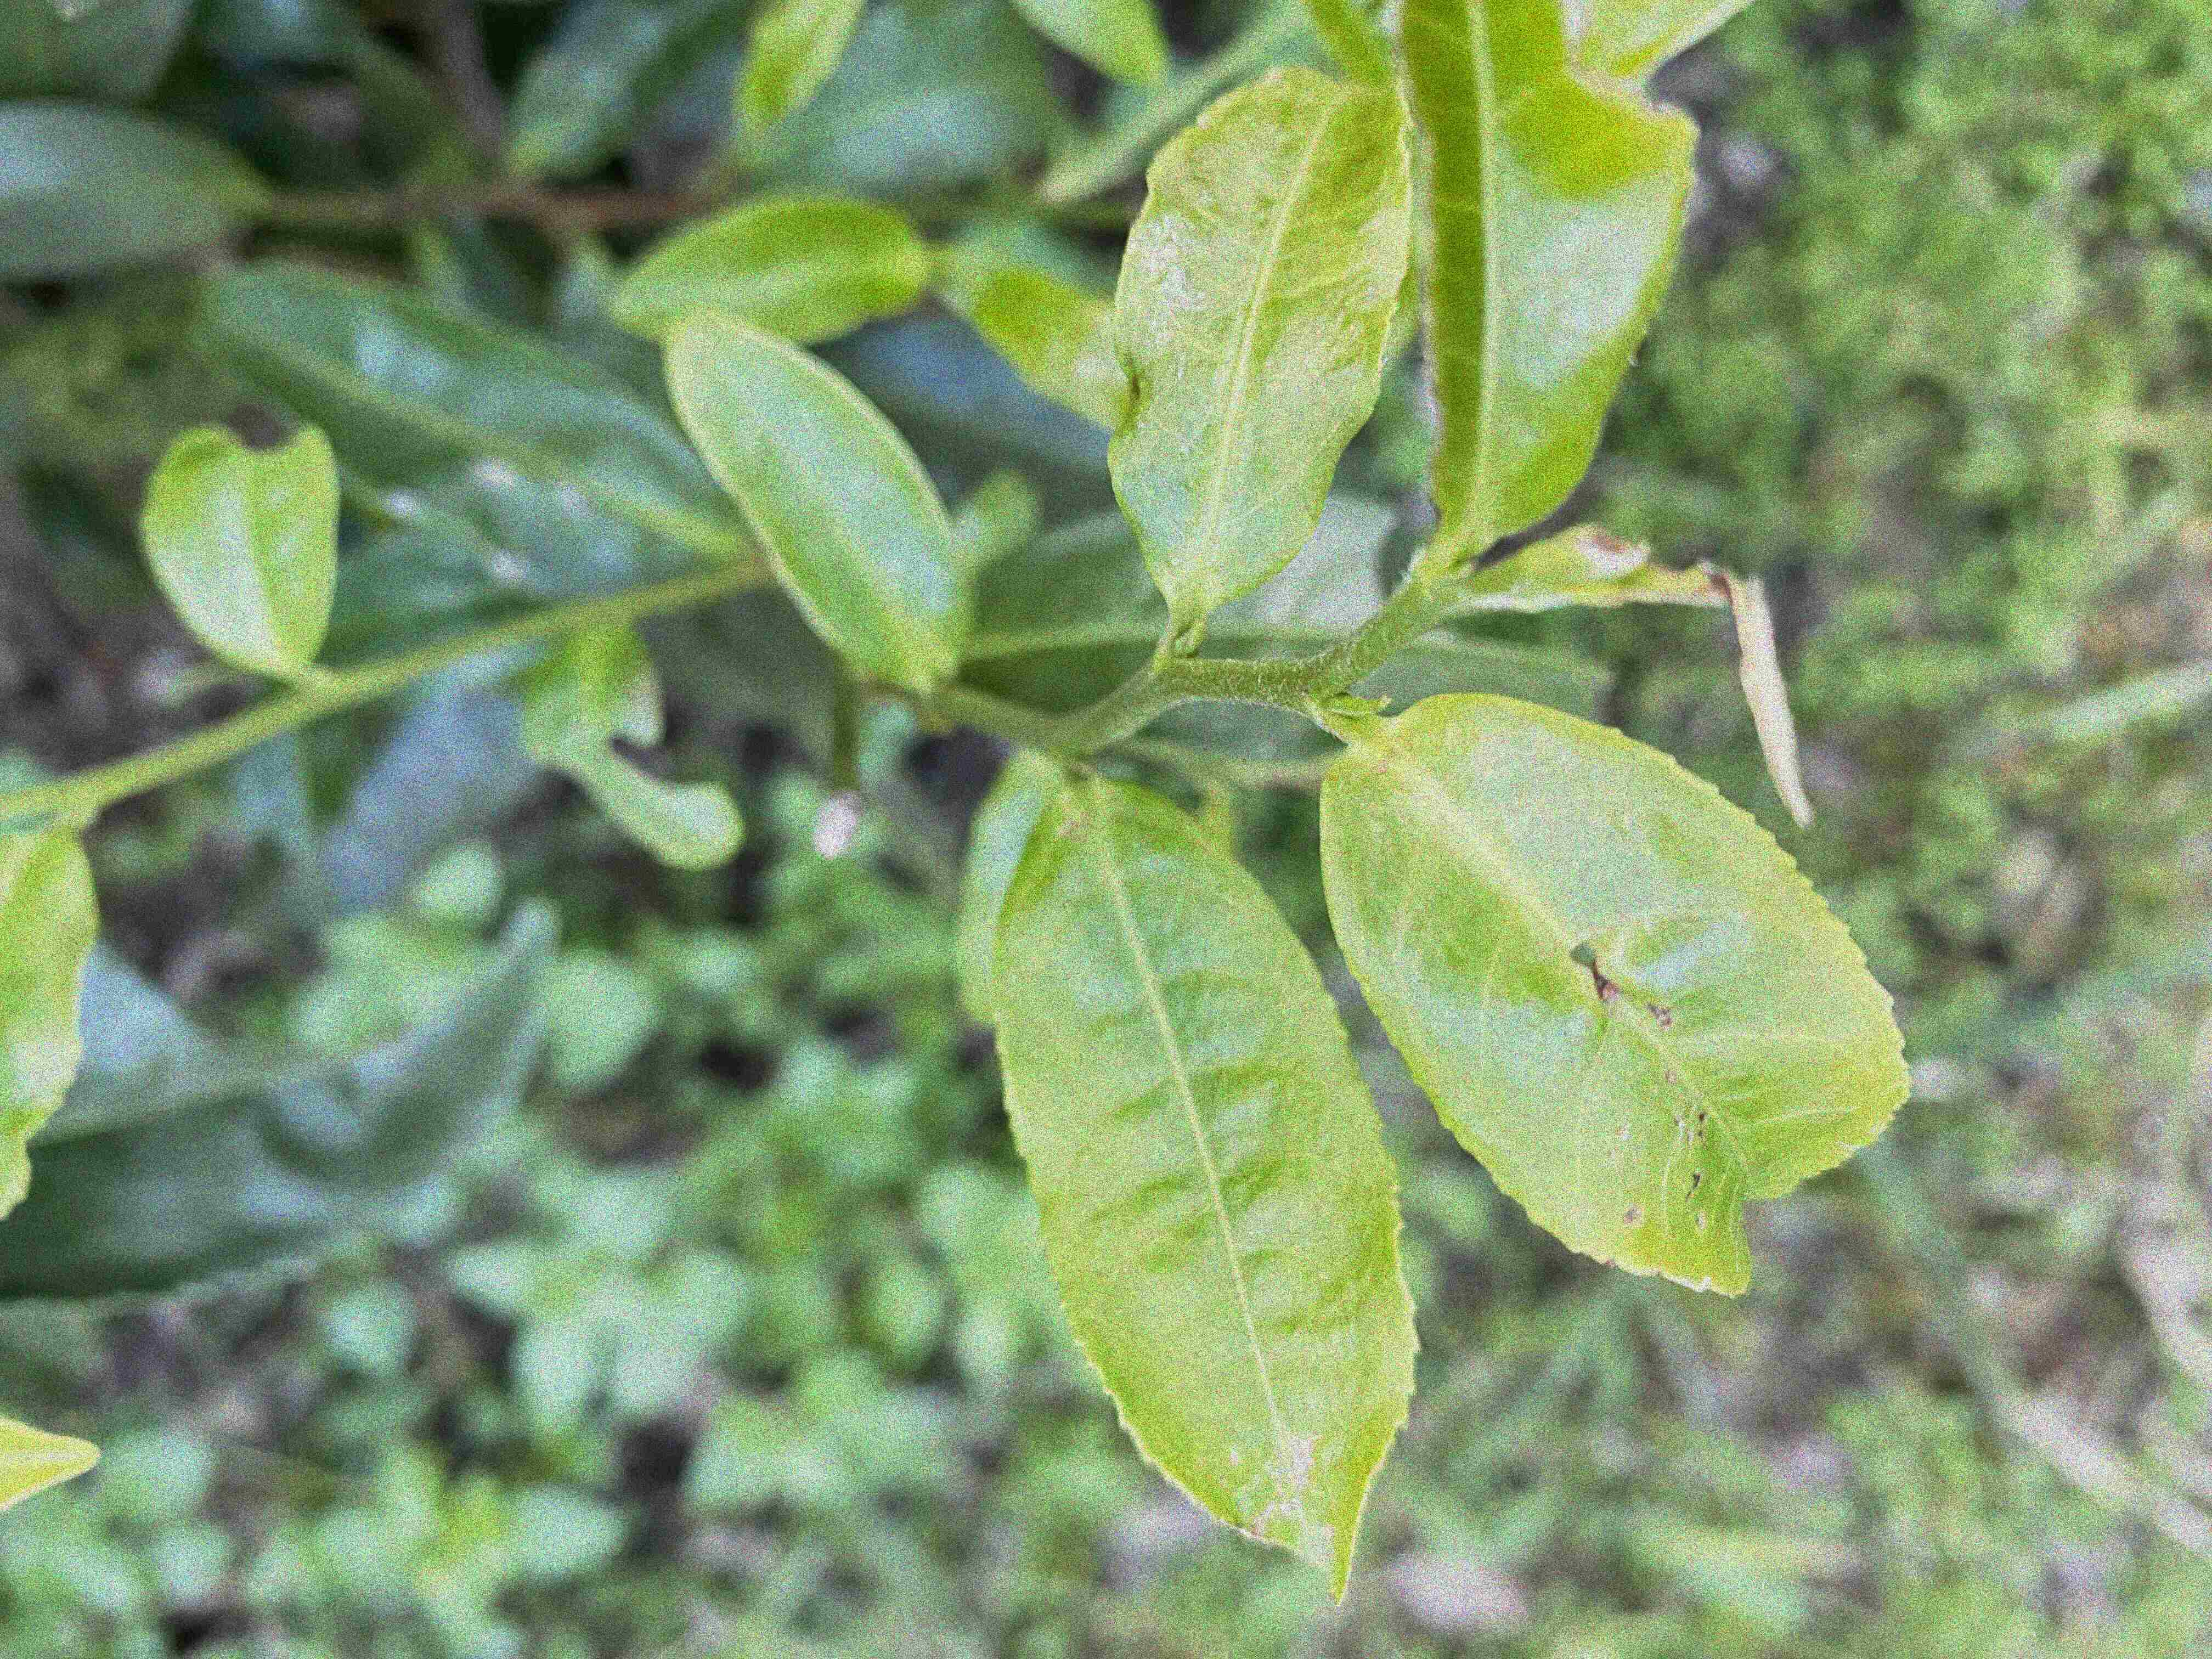chihuo_high: (1400, 3, 1702, 542)
healthy: (1096, 64, 1420, 626)
tanju_low: (986, 769, 1420, 1610), (1317, 690, 1916, 1298)
